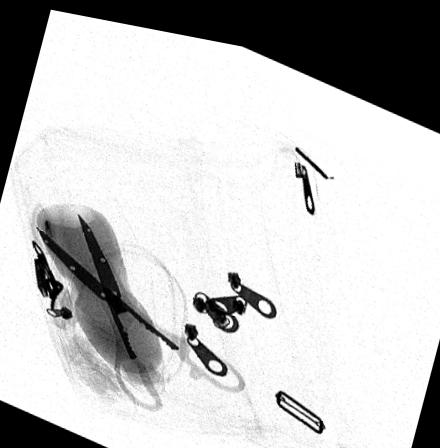Scissors: (32, 203, 246, 407)
